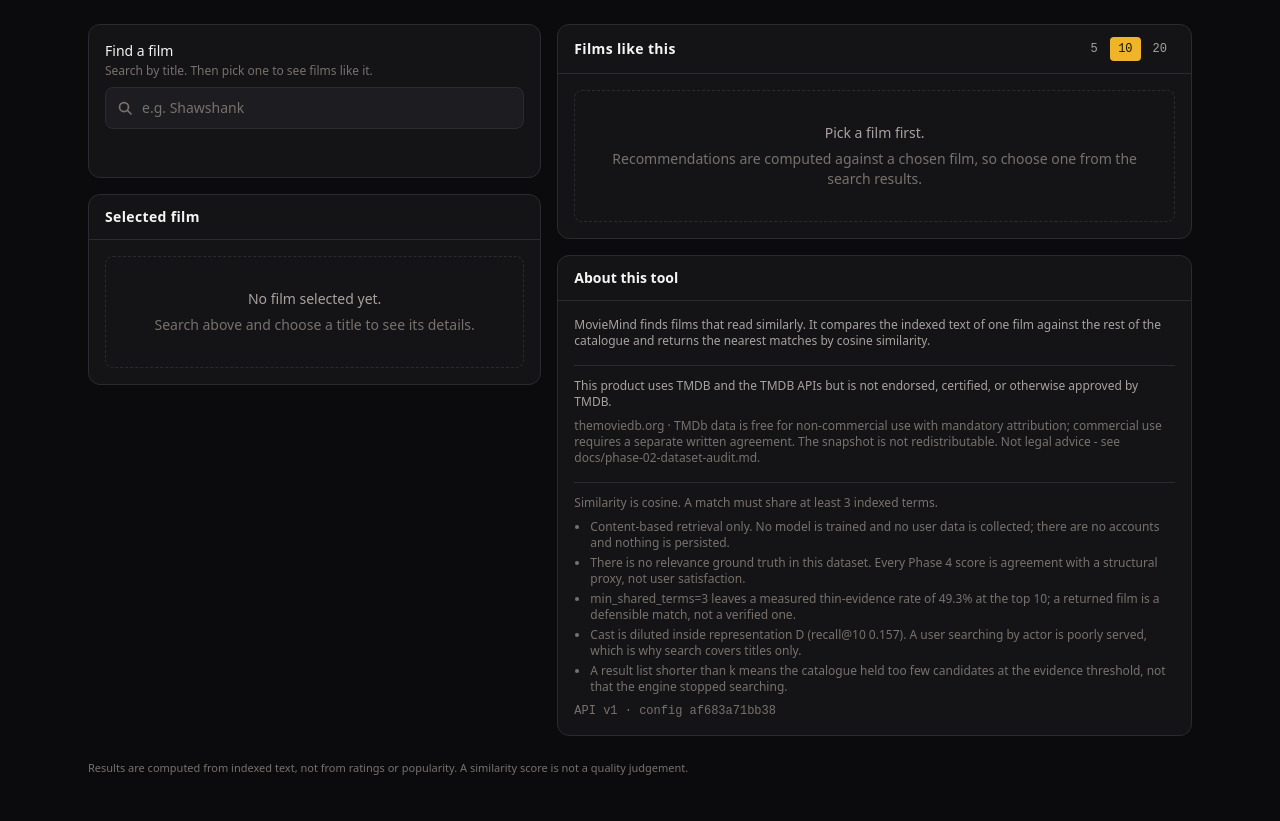
Scenario: recommendations › always shows the examined-versus-returned denominator
The image size is (1280, 821).
Type "the" into the dropdown labelled "Find a film" at coordinates (315, 108), box x1=105 y1=87 x2=524 y2=129
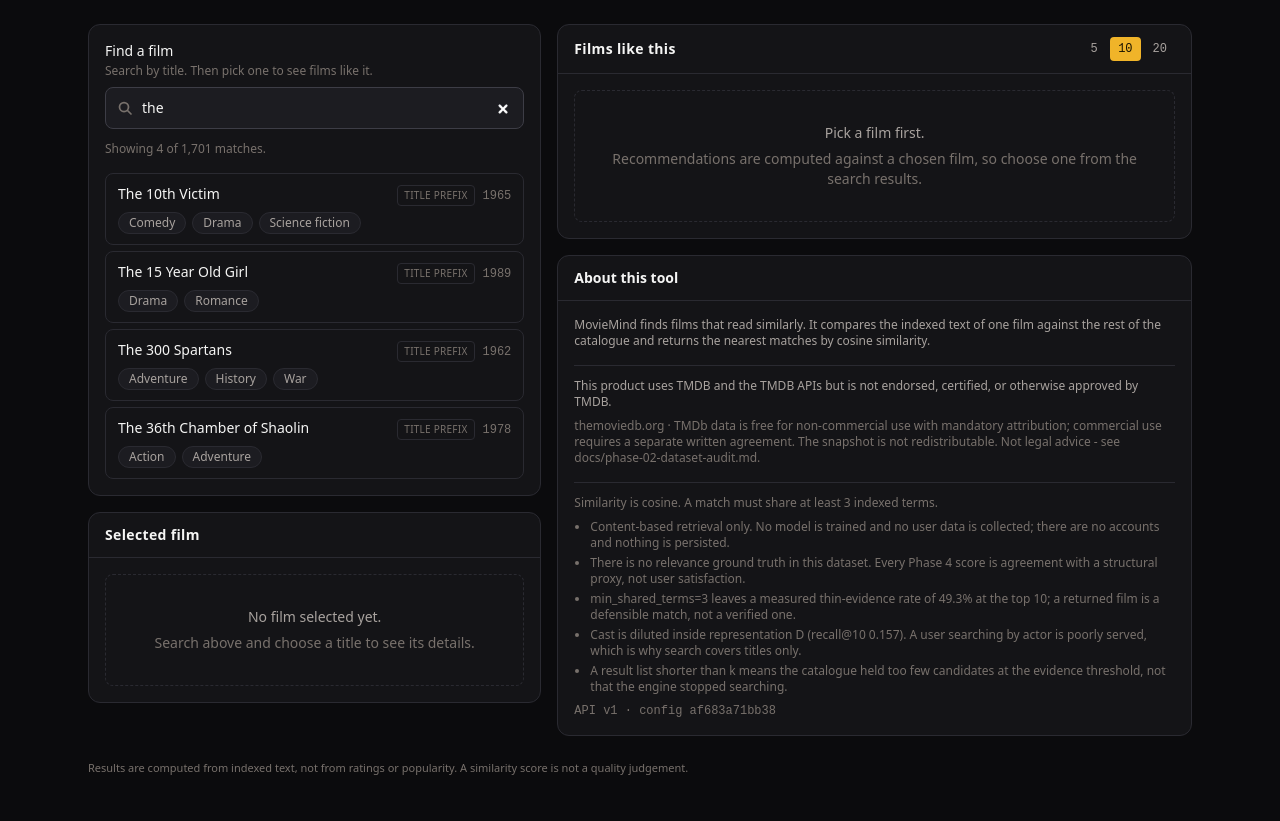
Click the option that starts with "The 10th Victim" at coordinates (315, 209), box x1=105 y1=173 x2=524 y2=245
(page scrolled)
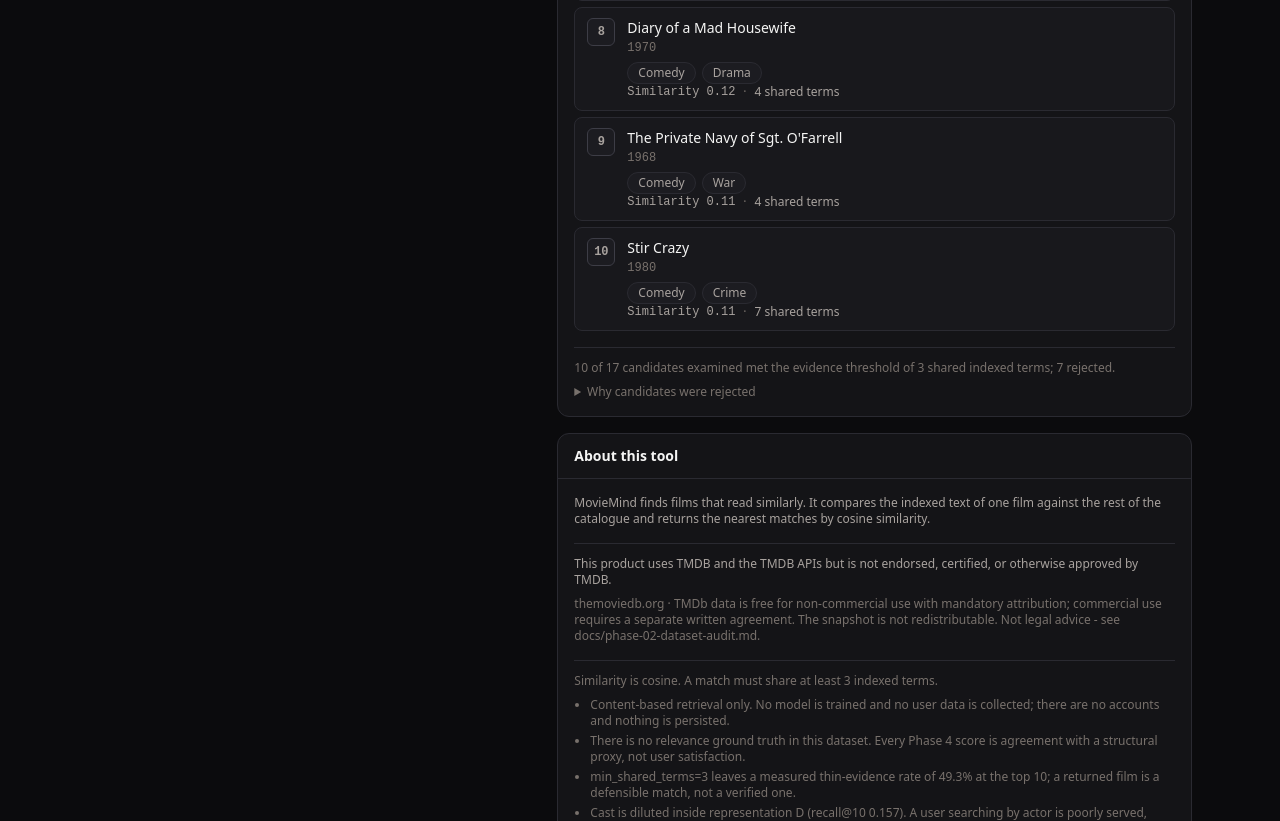
Expected: the element with test id "evidence-summary" shows "10 of", x1=574 y1=347 x2=1175 y2=400
Expected: the element with test id "evidence-summary" shows "examined", x1=684 y1=359 x2=917 y2=376
